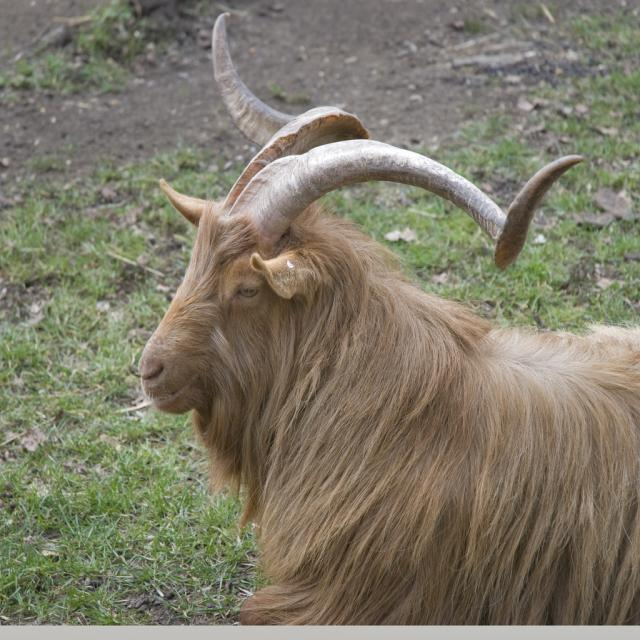Goat: (111, 47, 640, 626)
